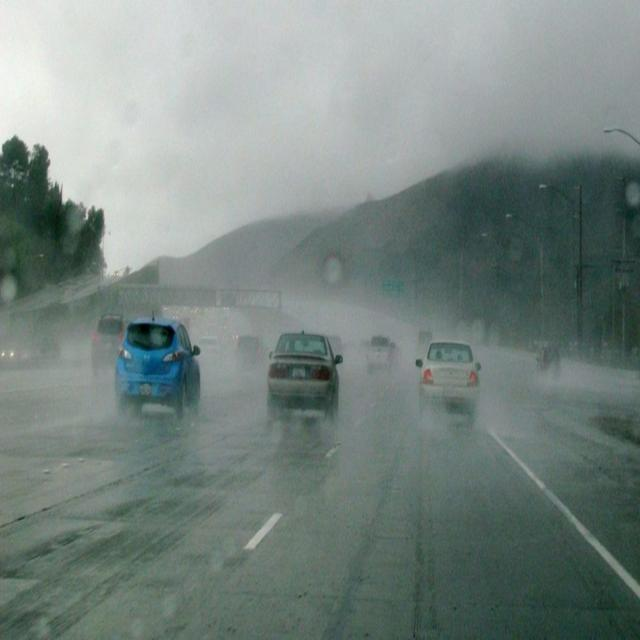car: (113, 314, 199, 400), (267, 330, 341, 410), (419, 340, 479, 402), (88, 312, 124, 375), (234, 330, 269, 373), (532, 344, 562, 384), (366, 333, 396, 372)
